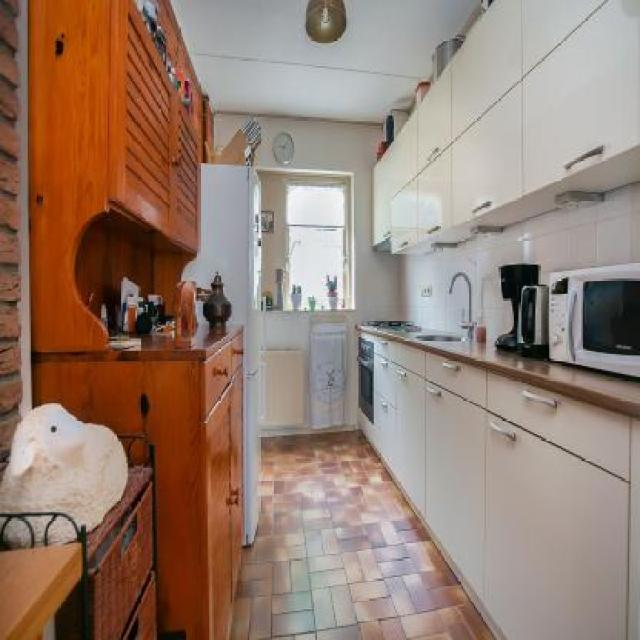floor: (231, 427, 501, 640)
